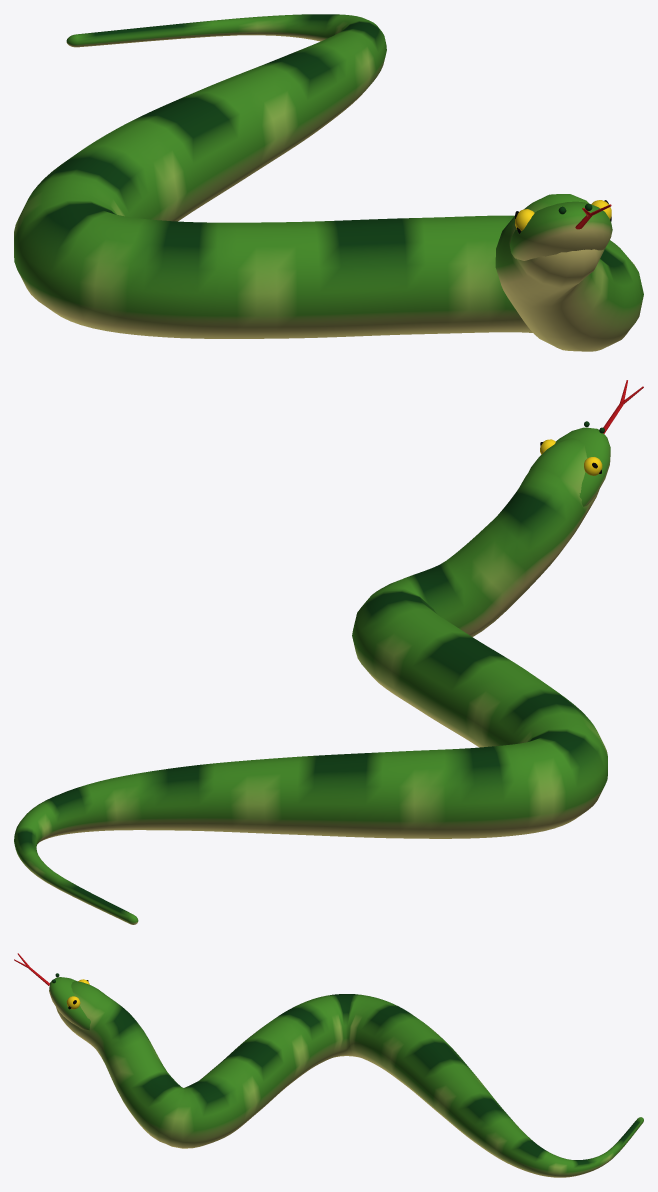
File: snake.glb
The picture shows the model from 3 angles, top to bottom: view 1: azimuth 30°, elevation 25°; view 2: azimuth 150°, elevation 25°; view 3: azimuth 270°, elevation 25°; orthographic projection. The views are drawn at different scales.
Parts seen in each view (by area): view 1: snake; view 2: snake; view 3: snake.
Boxes of the visible parts, x1=… form: snake: x1=14, y1=14, x2=643, y2=351; snake: x1=14, y1=380, x2=643, y2=924; snake: x1=14, y1=953, x2=643, y2=1177.
Bounding box in the file's own units: 1.14 × 0.575 × 2.15.
